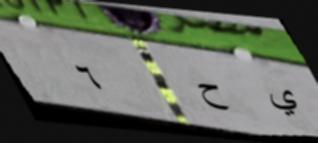6: (70, 58, 107, 95)
7aa: (193, 77, 233, 114)
yaa: (267, 86, 302, 125)
